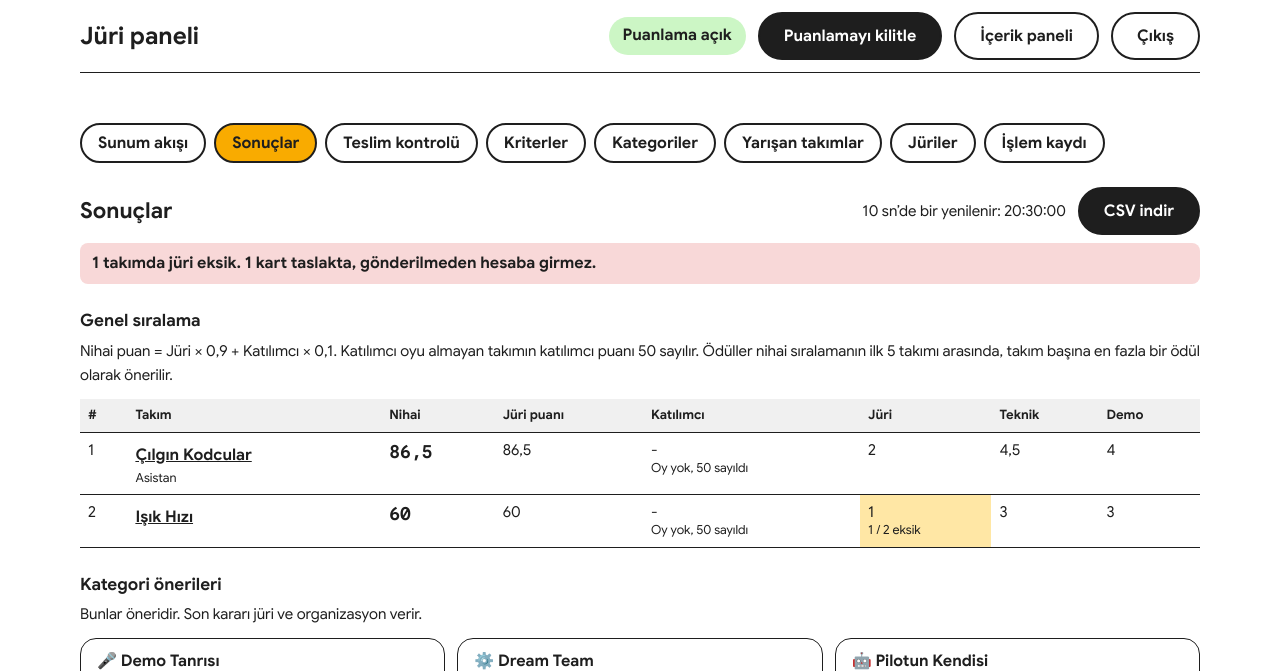
Scenario: ayarlar › çakışmada başkasının değişikliğini ezmez
Check: the button "Puanlamayı kilitle" is shown, box [758,12,942,60]
Click the button "Kriterler" at (536, 143), box [486,123,586,163]
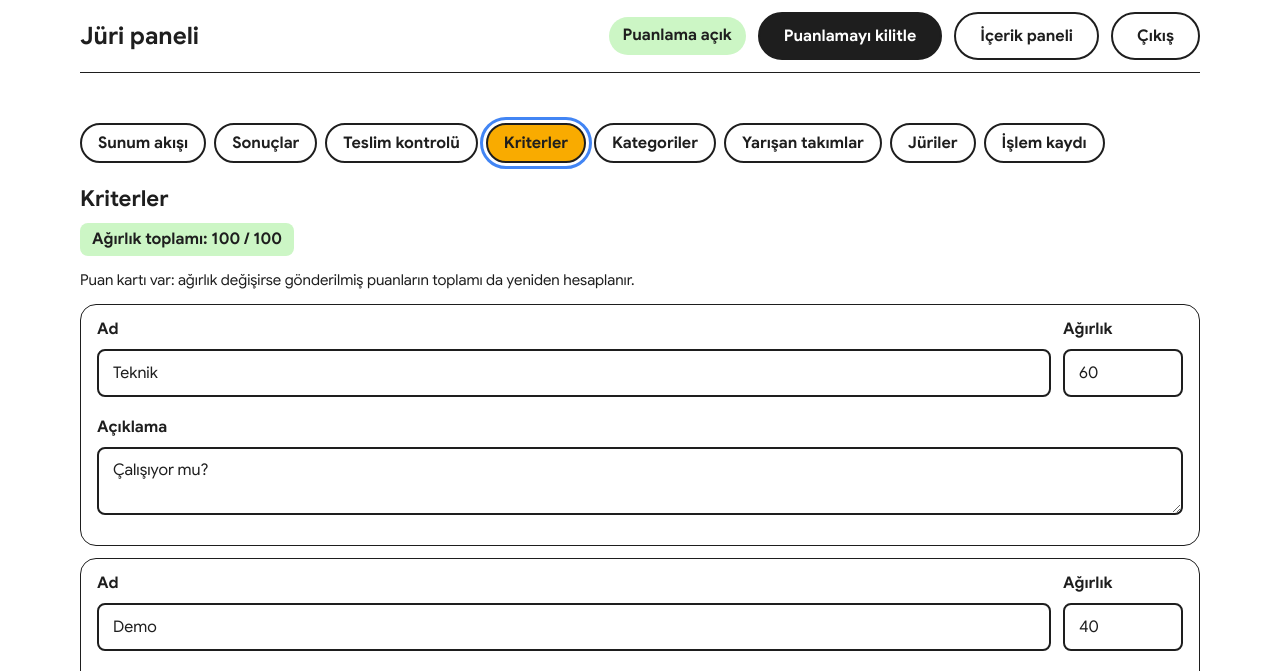
Type " Ek" into the 1st text box labelled "Açıklama" at (640, 481), box [97,447,1183,515]
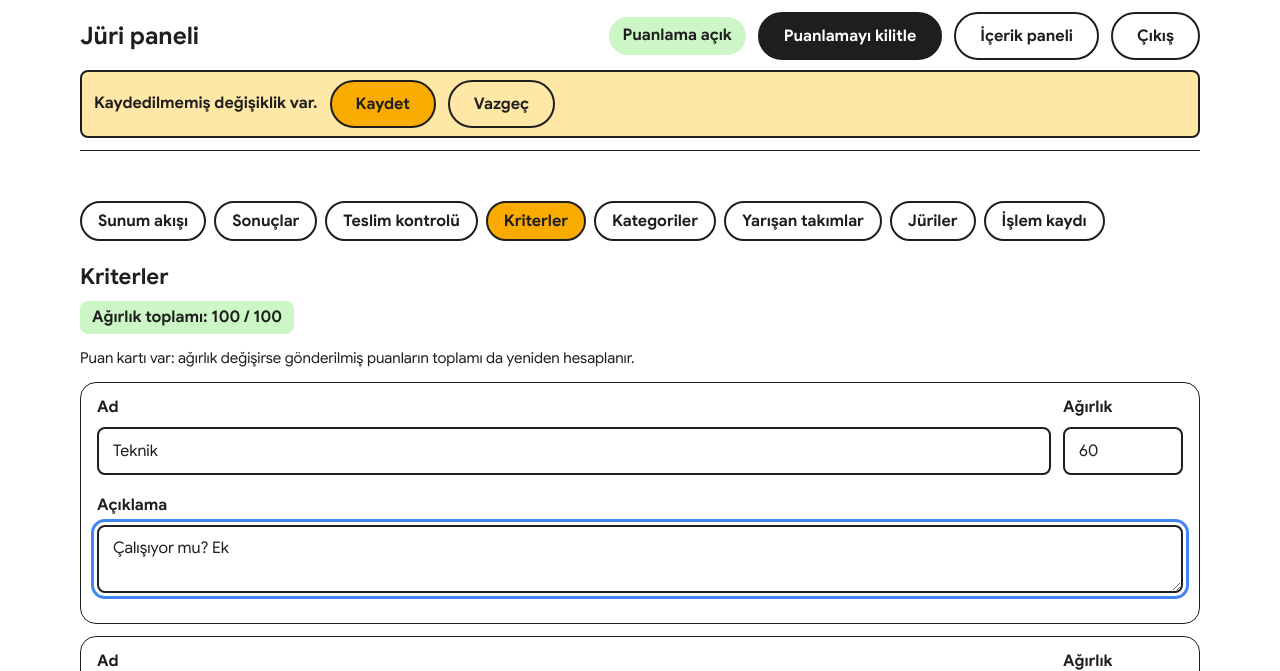
Click the button "Kaydet" at (383, 104), box [330,80,436,128]
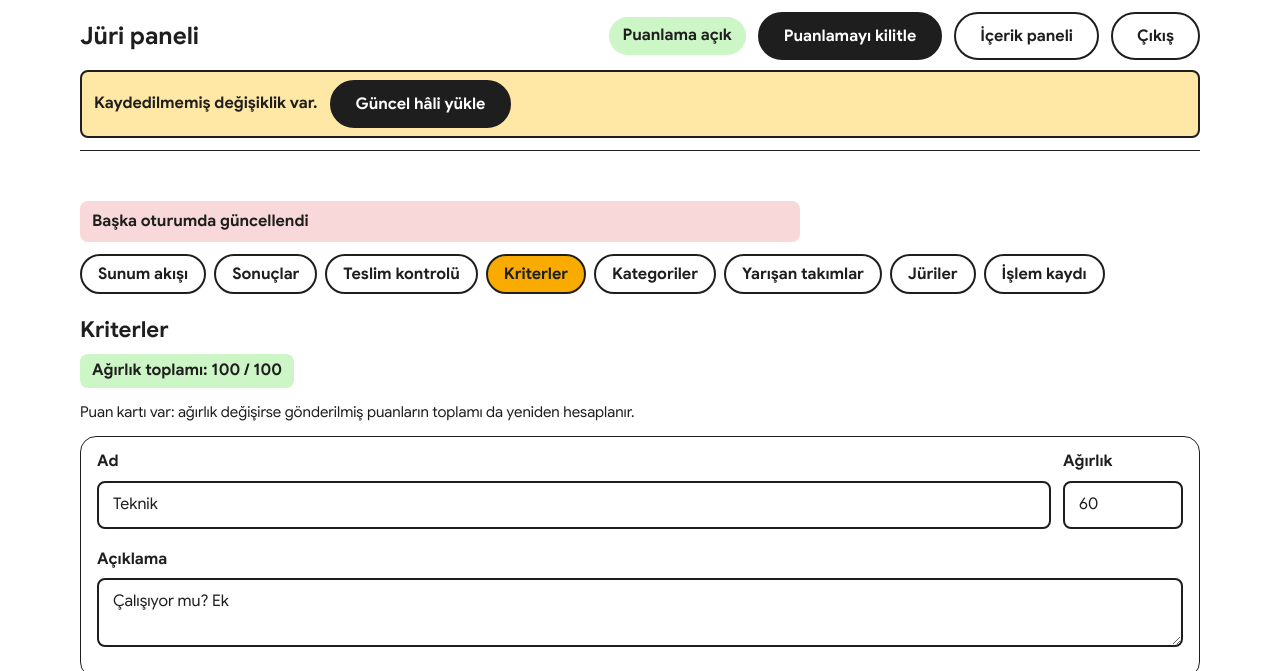
Check: the text box labelled "Açıklama" holds "Çalışıyor mu? Ek", box [97,578,1183,647]
Check: the button "Güncel hâli yükle" is shown, box [330,80,512,128]
